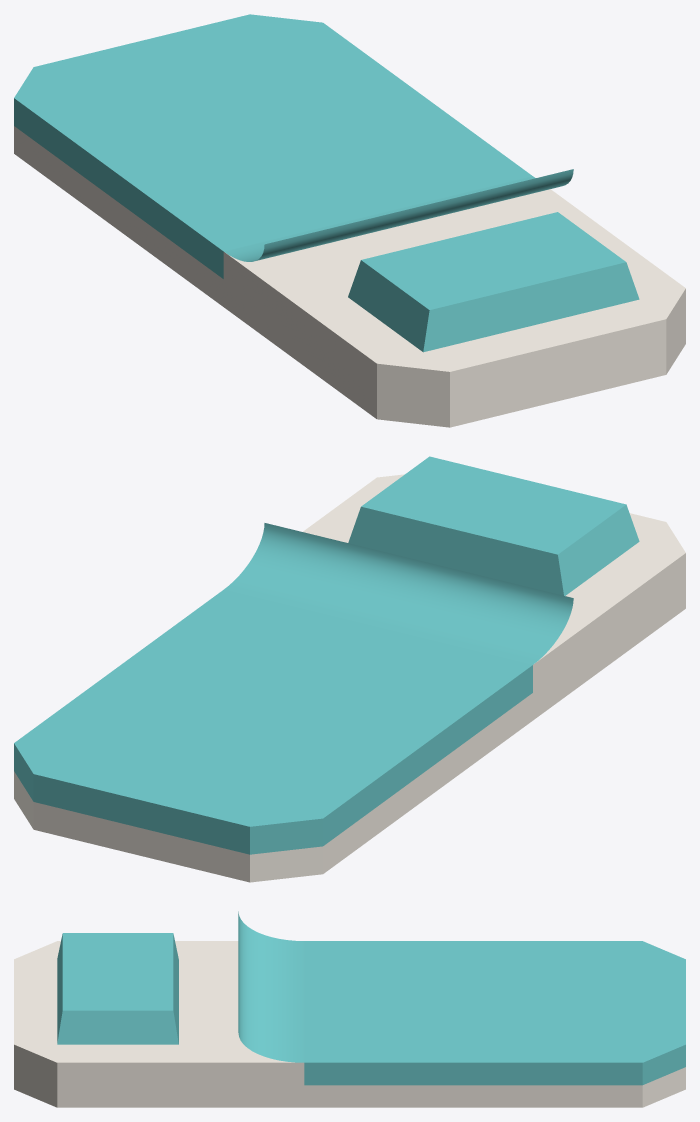
Rendered from bed_floor.glb.
3 views of the same model, one above another, from view 1: azimuth 30°, elevation 25°; view 2: azimuth 150°, elevation 25°; view 3: azimuth 270°, elevation 25° (orthographic). The views are drawn at different scales.
Visible parts, largest first — view 1: bed_floor; view 2: bed_floor; view 3: bed_floor.
Boxes of the visible parts, <box> form: bed_floor: <box>14,14,685,427</box>; bed_floor: <box>14,456,685,882</box>; bed_floor: <box>14,911,685,1107</box>.
Size of the model in its own units: 0.3203 by 0.0921 by 0.7473.
